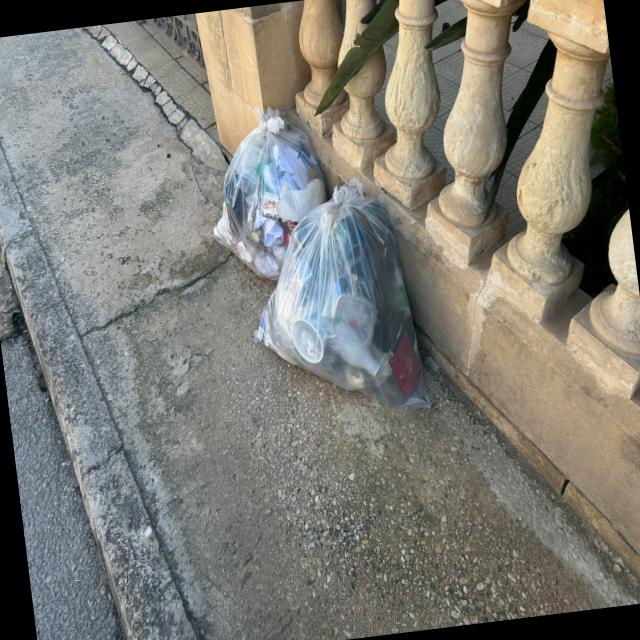grey_bag: (235, 170, 438, 432), (198, 102, 339, 290)
